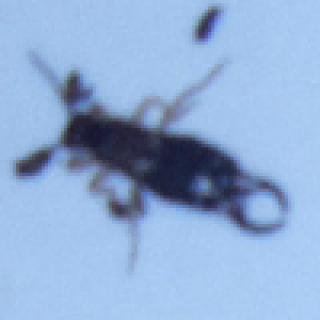earwig: (7, 44, 295, 274)
